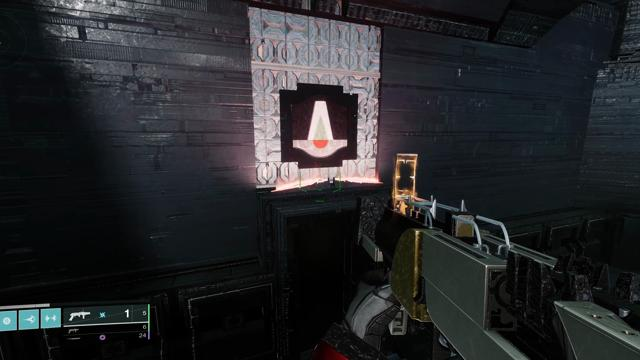enter: (292, 95, 348, 158)
